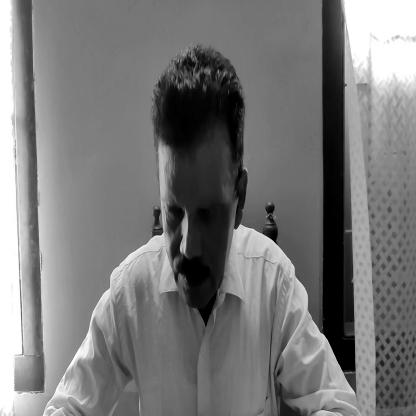Distracted: (154, 50, 246, 315)
